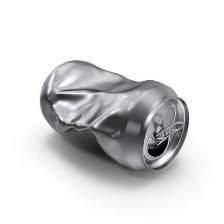can: (31, 57, 200, 175)
